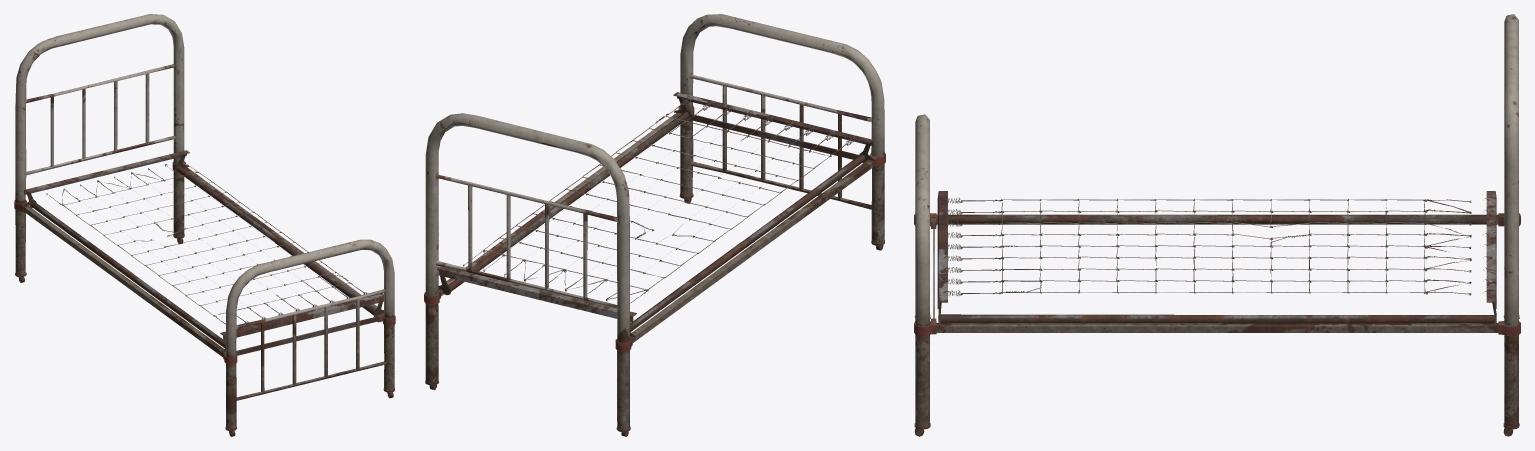
File: ph_old_bed_frame.glb
3 views of the same model, side by side, from view 1: azimuth 30°, elevation 25°; view 2: azimuth 150°, elevation 25°; view 3: azimuth 270°, elevation 25° (orthographic). The views are drawn at different scales.
Visible parts, largest first — view 1: old_bed_frame; view 2: old_bed_frame; view 3: old_bed_frame.
Part boxes in pixels (left/top/right/bottom): old_bed_frame: left=14, top=14, right=395, bottom=436; old_bed_frame: left=424, top=14, right=885, bottom=436; old_bed_frame: left=914, top=14, right=1520, bottom=436.
Bounding box in the file's own units: 0.9047 × 1.2 × 2.
1 material, 1 textured.
